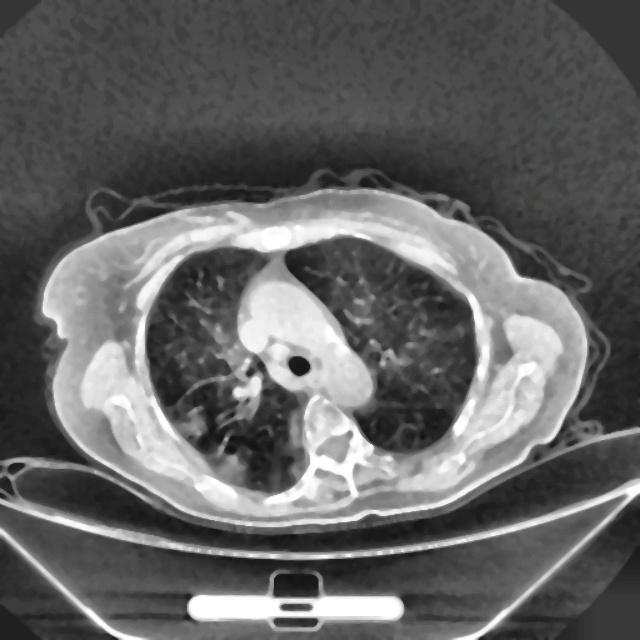covid: (39, 178, 591, 534)
